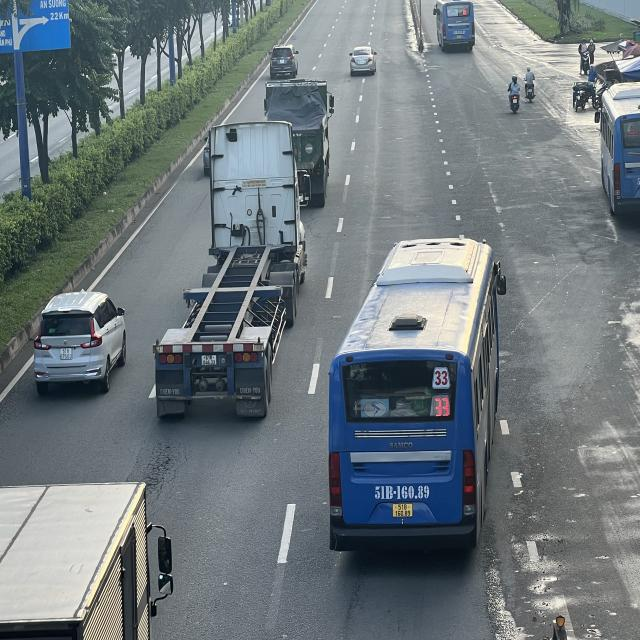car: (32, 292, 128, 393), (270, 44, 300, 80), (349, 47, 377, 77)
coach: (331, 244, 504, 557), (598, 83, 640, 219), (433, 0, 473, 51)
container: (154, 119, 308, 420), (264, 80, 334, 207)
truck: (0, 482, 169, 640)
